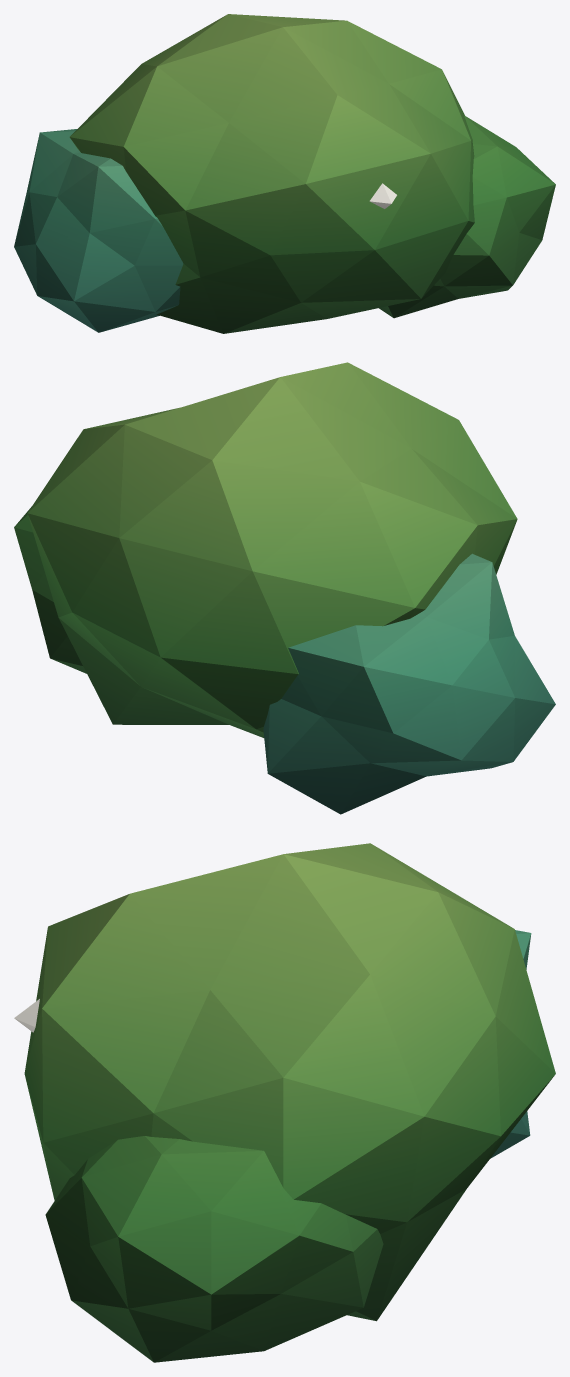
Rendered from bush_b.glb.
3 views of the same model, one above another, from view 1: azimuth 30°, elevation 25°; view 2: azimuth 150°, elevation 25°; view 3: azimuth 270°, elevation 25° (orthographic). The views are drawn at different scales.
Visible parts, largest first — view 1: bush_b; view 2: bush_b; view 3: bush_b.
Part boxes in pixels (x1,y1,x2,y2): bush_b: (14, 14, 555, 333); bush_b: (14, 362, 555, 814); bush_b: (14, 843, 555, 1362).
Size of the model in its own units: 8.24 by 4.86 by 6.01.
1 material, 1 textured.
